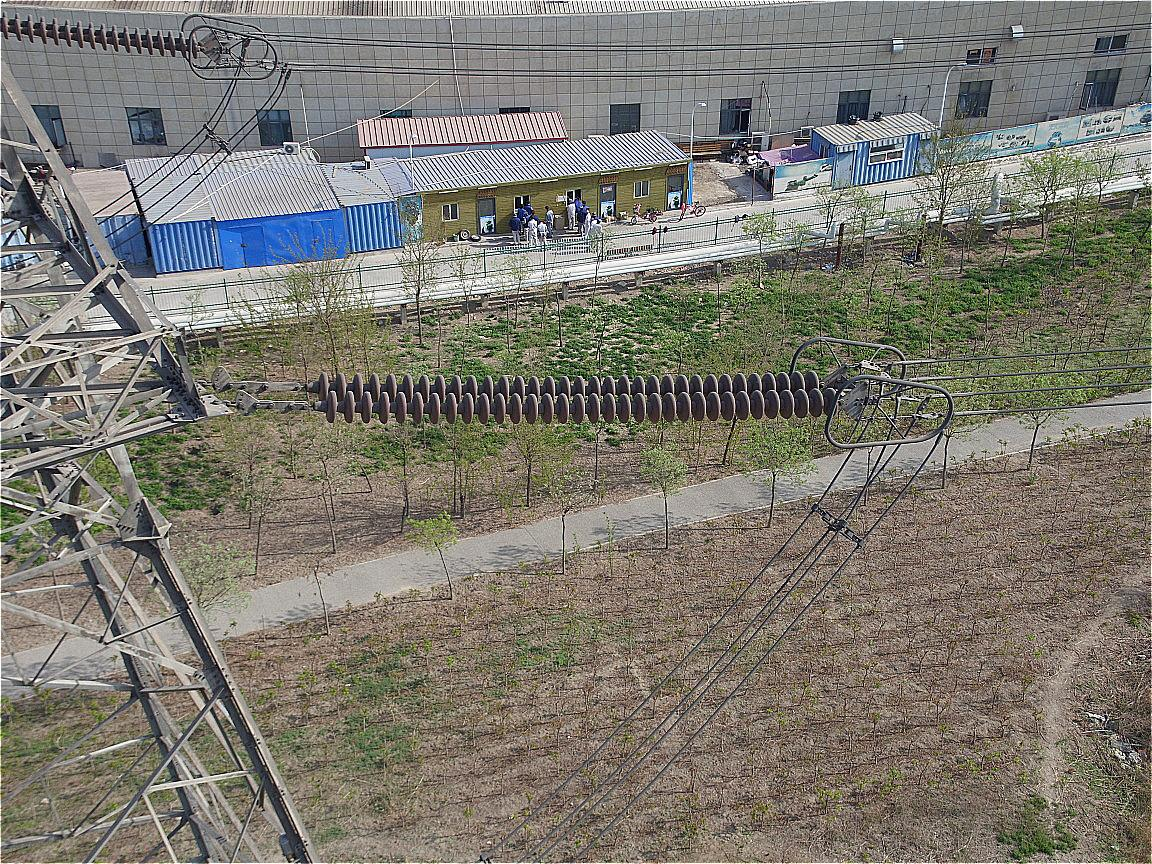insultor1: (316, 369, 839, 421)
